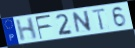2: (56, 13, 74, 37)
6: (111, 6, 128, 28)
F: (35, 14, 53, 41)
H: (15, 17, 39, 43)
N: (72, 10, 94, 35)
T: (91, 7, 107, 31)
